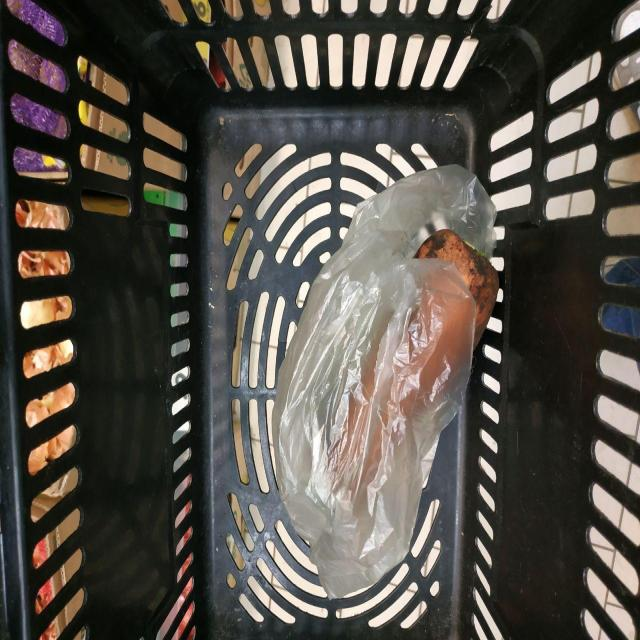carrot: (235, 187, 640, 567), (255, 144, 640, 401)
